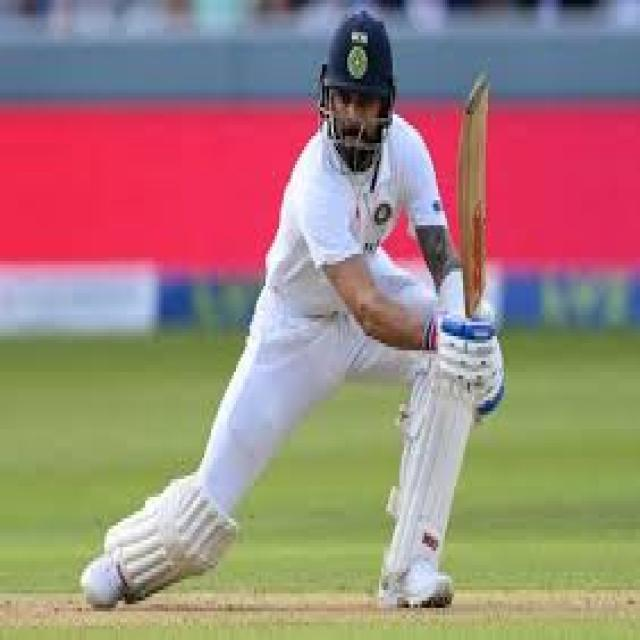bat: (459, 73, 492, 315)
toe: (455, 85, 494, 106)
